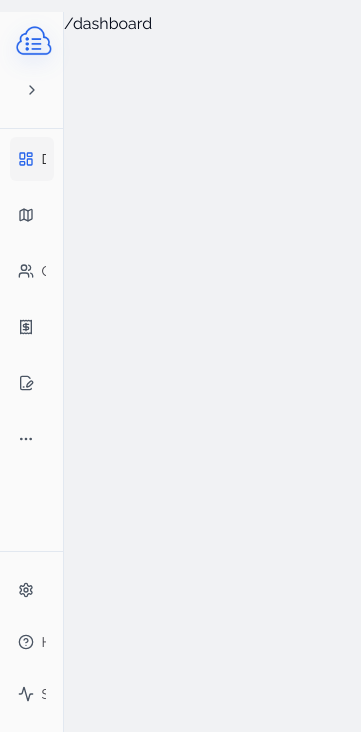
AppSidebar first-run disclosure › keeps the trial golden path visible and places expansion modules under More tools
expect the text "Automations" is not shown: met
Click the button named "More tools": (32, 439) left=10, top=417, right=54, bottom=461
(page scrolled)
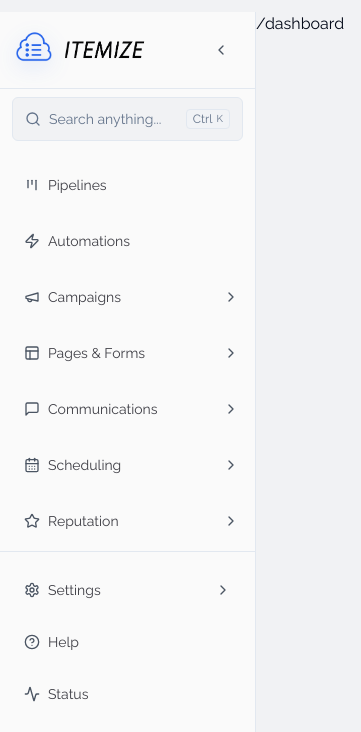
expect the text "Automations" is shown: met, box left=48, top=233, right=130, bottom=249
expect the text "Campaigns" is shown: met, box left=48, top=289, right=121, bottom=305
expect the text "Scheduling" is shown: met, box left=48, top=457, right=121, bottom=473
